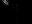person: (3, 0, 11, 8)
